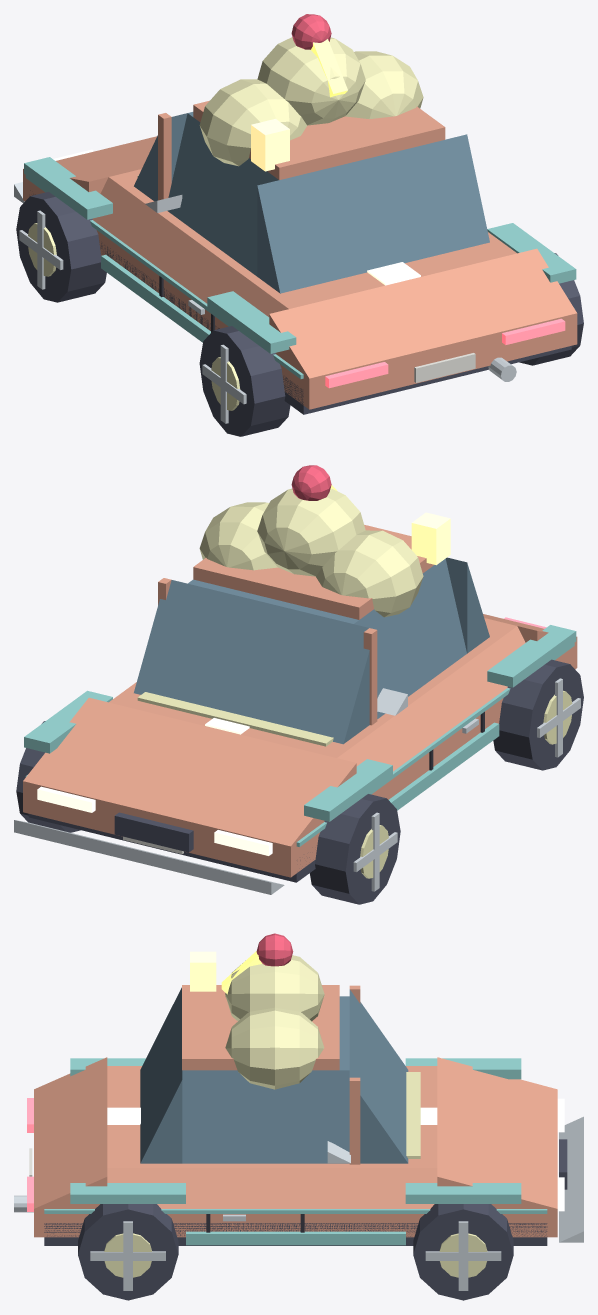
File: comet_cupcake.glb
The picture shows the model from 3 angles, top to bottom: view 1: azimuth 30°, elevation 25°; view 2: azimuth 150°, elevation 25°; view 3: azimuth 270°, elevation 25°; orthographic projection. The views are drawn at different scales.
Visible parts, largest first — view 1: RearWindow.227, Tail.130, Body.327, CabinSideL.124, ShoulderL.124, Roof.327, Wheel_RL.267, Wheel_FL.267, CloudCap1.010, BodyUpper.124, CloudCap0.010, CloudCap2.010 (+21 smaller); view 2: Nose.124, Windshield.227, Body.327, CabinSideL.124, ShoulderL.124, CloudCap1.010, CloudCap0.010, Wheel_FL.267, Wheel_RL.267, Roof.327, BodyUpper.124, Bumper.323 (+21 smaller); view 3: CabinSideR.124, Nose.124, ShoulderR.124, Tail.130, Windshield.227, Body.327, CloudCap2.010, BodyUpper.124, Wheel_RR.267, Wheel_FR.267, RearWindow.227, Roof.327 (+21 smaller).
Part boxes in pixels (x1=…): RearWindow.227: x1=257, y1=134, x2=489, y2=293; Tail.130: x1=269, y1=248, x2=576, y2=378; Body.327: x1=23, y1=169, x2=577, y2=409; CabinSideL.124: x1=167, y1=113, x2=278, y2=276; ShoulderL.124: x1=92, y1=177, x2=288, y2=316; Roof.327: x1=193, y1=100, x2=445, y2=179; Wheel_RL.267: x1=199, y1=326, x2=290, y2=436; Wheel_FL.267: x1=16, y1=191, x2=106, y2=302; CloudCap1.010: x1=257, y1=37, x2=365, y2=125; BodyUpper.124: x1=109, y1=169, x2=516, y2=308; CloudCap0.010: x1=199, y1=79, x2=307, y2=166; CloudCap2.010: x1=345, y1=51, x2=423, y2=119; Nose.124: x1=23, y1=697, x2=356, y2=846; Windshield.227: x1=134, y1=580, x2=369, y2=744; Body.327: x1=23, y1=637, x2=577, y2=877; CabinSideL.124: x1=354, y1=559, x2=466, y2=718; ShoulderL.124: x1=337, y1=626, x2=525, y2=771; CloudCap1.010: x1=257, y1=488, x2=365, y2=576; CloudCap0.010: x1=316, y1=530, x2=423, y2=617; Wheel_FL.267: x1=309, y1=794, x2=400, y2=904; Wheel_RL.267: x1=493, y1=659, x2=583, y2=770; Roof.327: x1=193, y1=525, x2=434, y2=619; BodyUpper.124: x1=109, y1=618, x2=516, y2=757; Bumper.323: x1=14, y1=820, x2=284, y2=894; CabinSideR.124: x1=182, y1=1070, x2=349, y2=1163; Nose.124: x1=437, y1=1057, x2=557, y2=1208; ShoulderR.124: x1=107, y1=1168, x2=437, y2=1208; Tail.130: x1=34, y1=1057, x2=107, y2=1208; Windshield.227: x1=349, y1=989, x2=408, y2=1163; Body.327: x1=34, y1=1209, x2=557, y2=1237; CloudCap2.010: x1=225, y1=1007, x2=324, y2=1089; BodyUpper.124: x1=107, y1=1066, x2=437, y2=1167; Wheel_RR.267: x1=78, y1=1204, x2=178, y2=1300; Wheel_FR.267: x1=413, y1=1204, x2=513, y2=1300; RearWindow.227: x1=140, y1=987, x2=182, y2=1163; Roof.327: x1=182, y1=985, x2=339, y2=1070.
Bounding box in the file's own units: 3.4 × 3.08 × 5.44.
